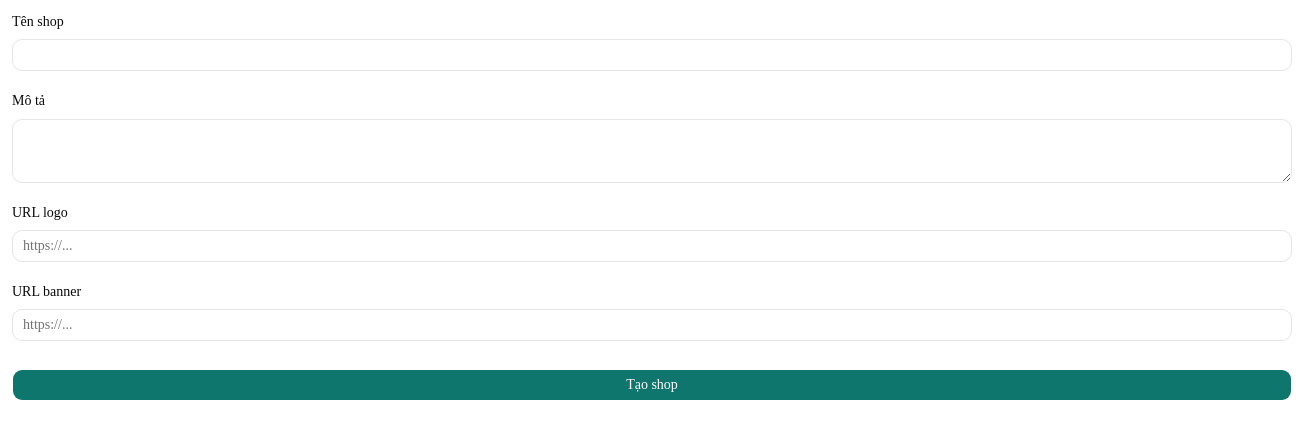
Test: BecomeSellerForm › shows an error when logoUrl is not a valid URL
The width and height of the screenshot is (1304, 445).
Type "Shop Thời Trang ABC" into the field labelled "Tên shop".
click(652, 55); type("Shop Thời Trang ABC")  # box [12,39,1292,71]
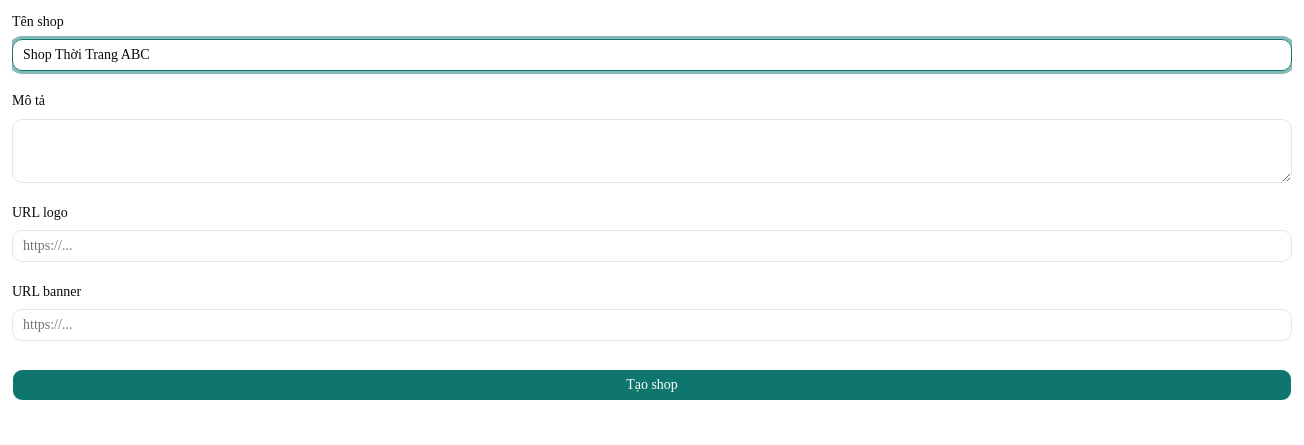
Type "not-a-url" into the field labelled "URL logo".
click(652, 246); type("not-a-url")  # box [12,230,1292,262]
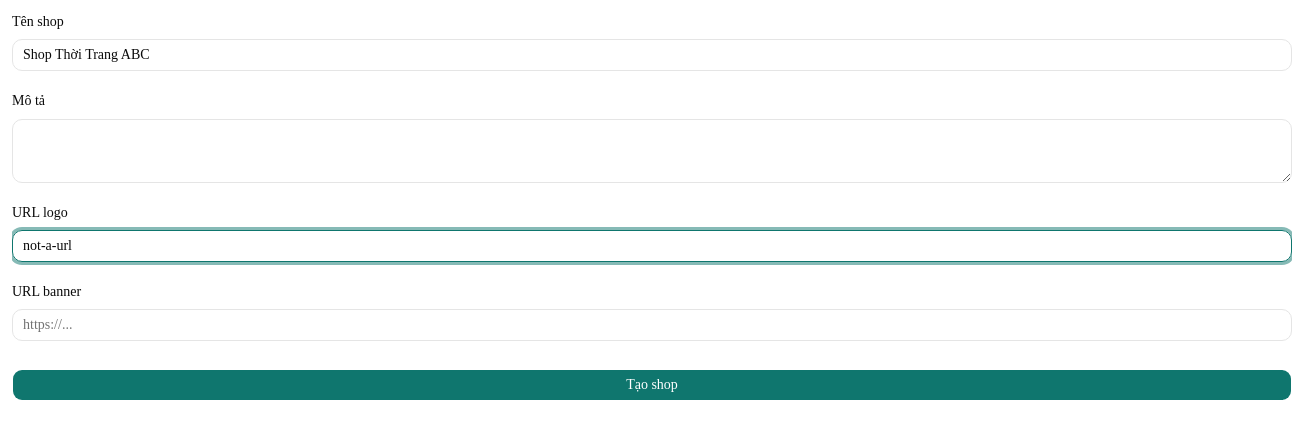
Click the button "Tạo shop".
click(652, 385)  # box [12,369,1292,401]
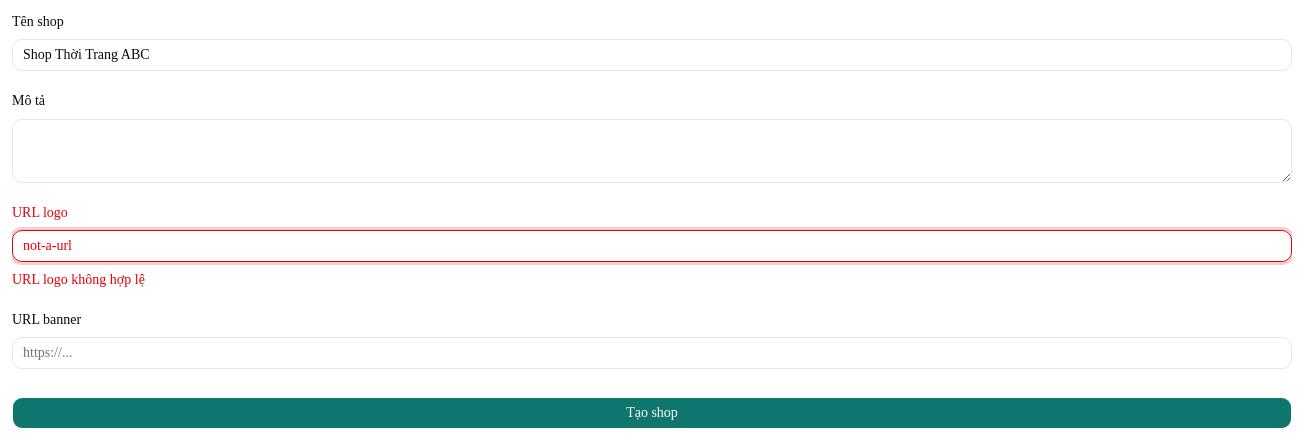
Expected: the text "URL logo không hợp lệ" is shown, [12,272,145,287]
